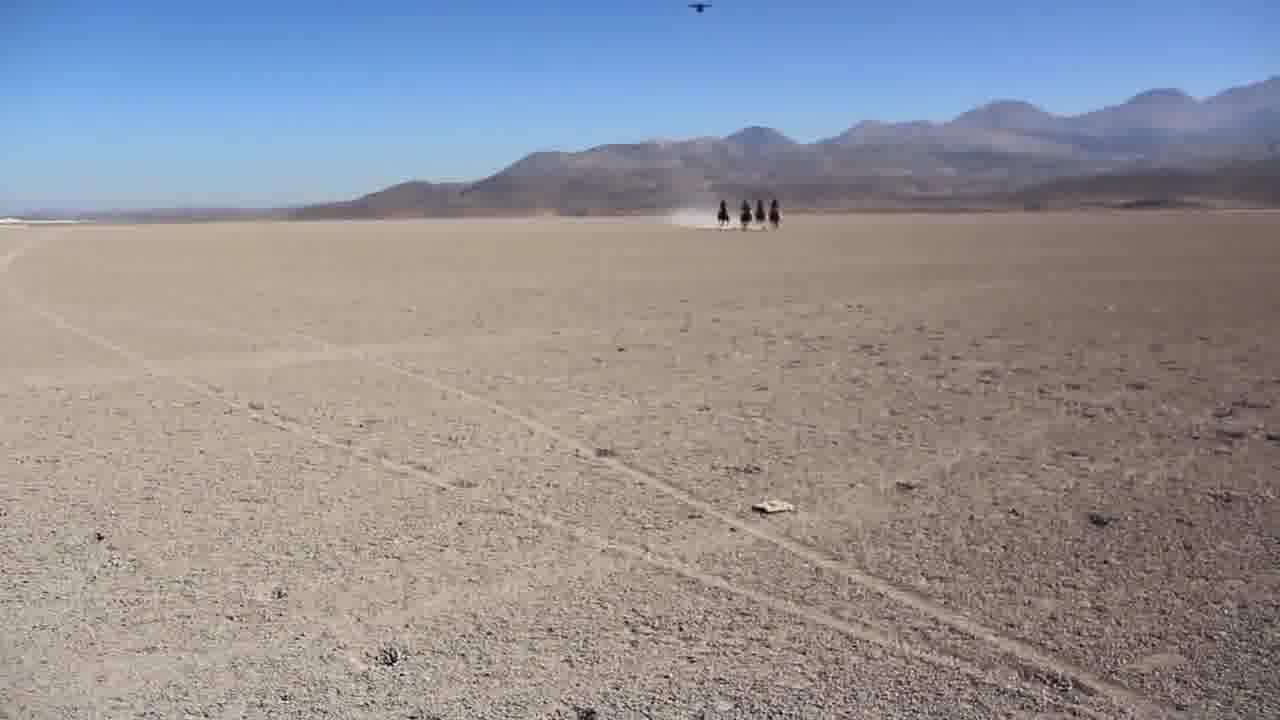drone: (685, 0, 714, 17)
